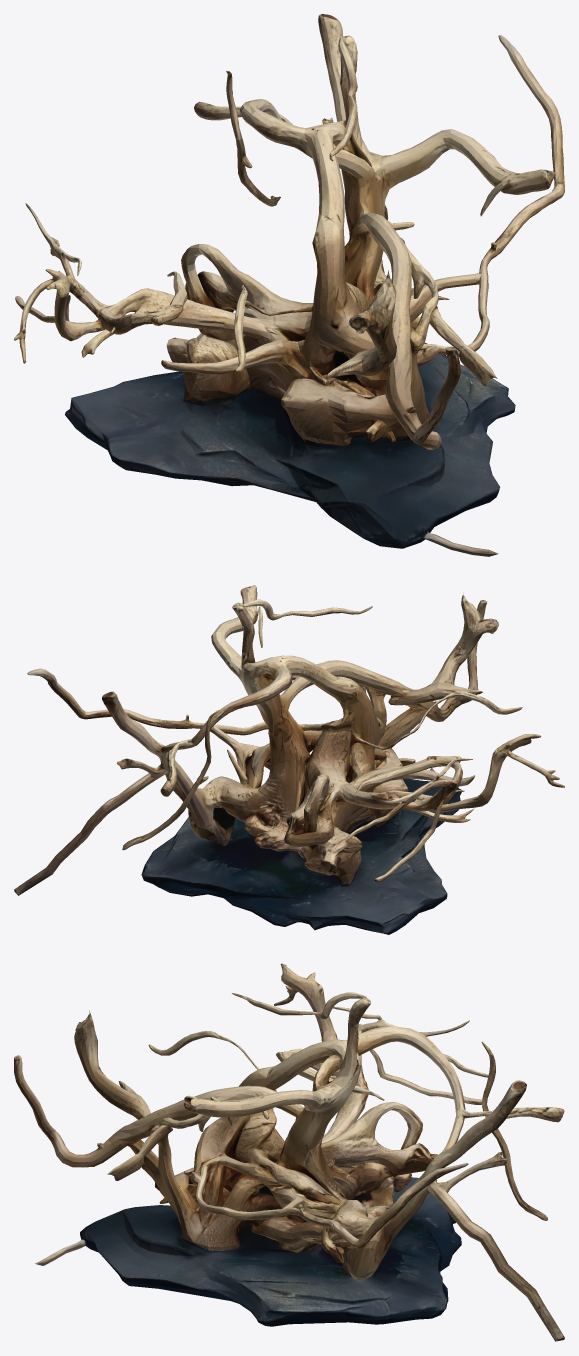
3 views of the same model, one above another, from view 1: azimuth 30°, elevation 25°; view 2: azimuth 150°, elevation 25°; view 3: azimuth 270°, elevation 25° (orthographic). The views are drawn at different scales.
Visible parts, largest first — view 1: model; view 2: model; view 3: model.
Boxes of the visible parts, x1,y1,x2,y2 form: model: (14, 14, 564, 556); model: (14, 585, 564, 934); model: (14, 963, 564, 1341).
Size of the model in its own units: 1.9 by 1.07 by 1.84.
Materials: 1 (1 with a texture image).
